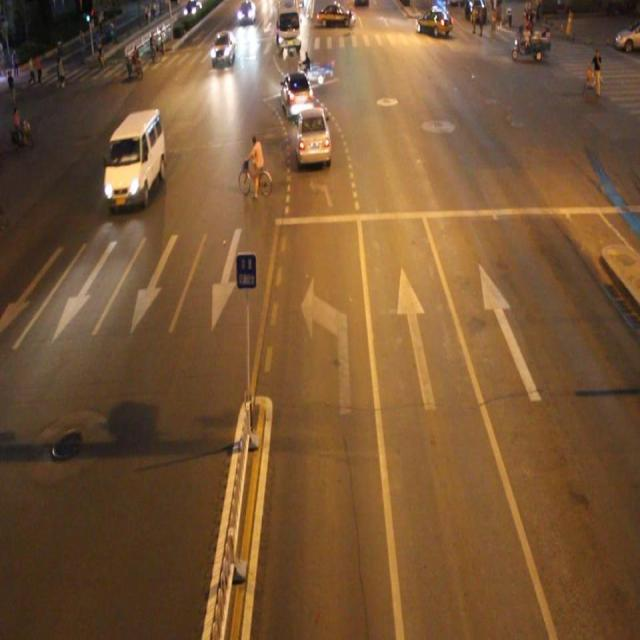car: (295, 104, 334, 164), (280, 67, 316, 119)
truck: (104, 112, 164, 206)
